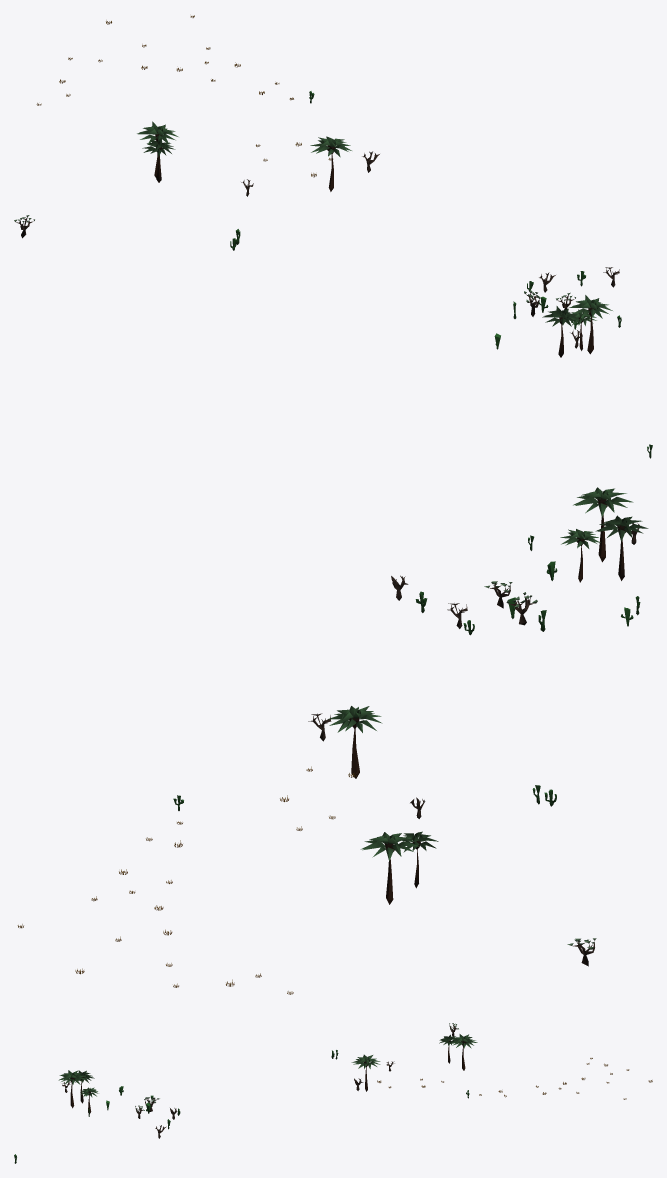
Rendered from c_trees_desert_top_left.fbx.
3 views of the same model, one above another, from view 1: azimuth 30°, elevation 25°; view 2: azimuth 150°, elevation 25°; view 3: azimuth 270°, elevation 25° (orthographic). The views are drawn at different scales.
Visible parts, largest first — view 1: c_trees_desert_top_left; view 2: c_trees_desert_top_left; view 3: c_trees_desert_top_left.
Part boxes in pixels (x1,y1,x2,y2): c_trees_desert_top_left: (14,15,652,458); c_trees_desert_top_left: (17,487,648,994); c_trees_desert_top_left: (14,1023,652,1163).
Size of the model in its own units: 74.39 by 25.62 by 165.
